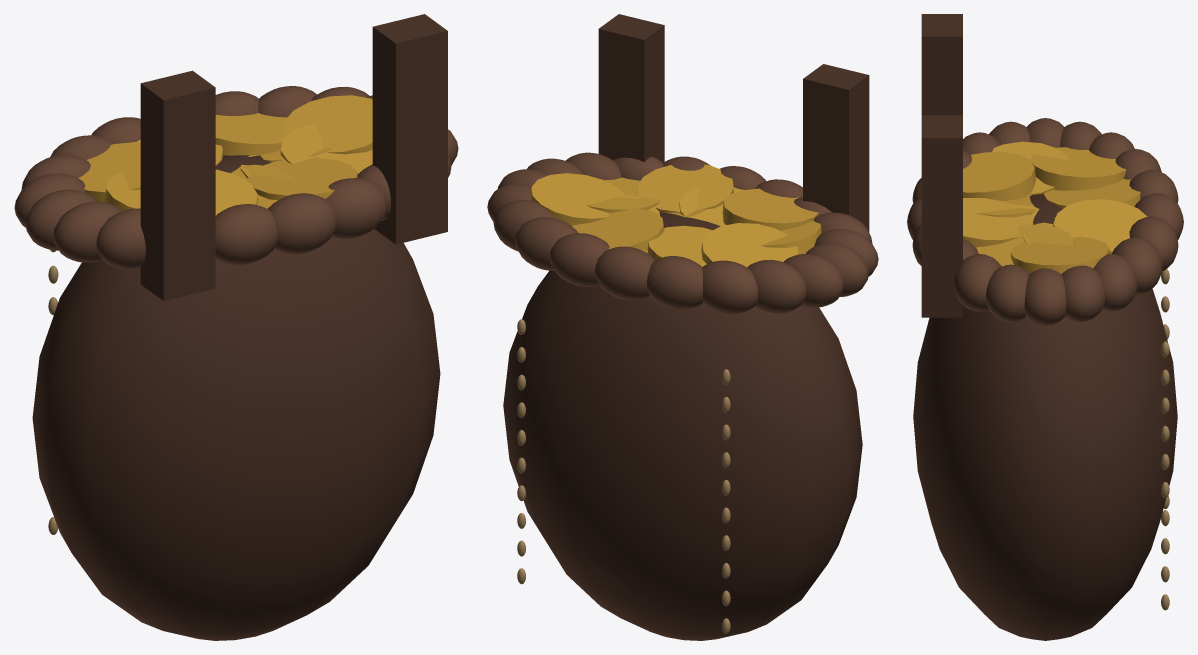
The model's file is coin-pouch-source.glb.
3 renders of one model, left to right at view 1: azimuth 30°, elevation 25°; view 2: azimuth 150°, elevation 25°; view 3: azimuth 270°, elevation 25°, orthographic. The views are drawn at different scales.
Parts seen in each view (by area): view 1: LeatherBody, BeltLoop (×2), PouchCoin14, RolledRim6, RolledRim5, PouchCoin12, RolledRim4, PouchCoin11, RolledRim9, RolledRim8, PouchCoin13, RolledRim10 (+10 smaller); view 2: LeatherBody, BeltLoop (×2), PouchCoin14, PouchCoin12, PouchCoin13, PouchCoin15, RolledRim14, RolledRim13, RolledRim15, PouchCoin11, RolledRim12, RolledRim16 (+17 smaller); view 3: LeatherBody, BeltLoop (×2), PouchCoin15, PouchCoin11, PouchCoin13, PouchCoin14, PouchCoin12, RolledRim0, RolledRim1, RolledRim19, RolledRim2, RolledRim18 (+15 smaller).
Boxes of the visible parts, x1=… form: LeatherBody: x1=32, y1=155, x2=440, y2=640; BeltLoop (×2): x1=140, y1=14, x2=447, y2=300; PouchCoin14: x1=283, y1=95, x2=372, y2=154; RolledRim6: x1=215, y1=204, x2=277, y2=265; RolledRim5: x1=268, y1=193, x2=336, y2=254; PouchCoin12: x1=247, y1=157, x2=357, y2=200; RolledRim4: x1=326, y1=178, x2=387, y2=239; PouchCoin11: x1=215, y1=113, x2=288, y2=155; RolledRim9: x1=53, y1=201, x2=122, y2=262; RolledRim8: x1=96, y1=208, x2=145, y2=269; PouchCoin13: x1=78, y1=142, x2=140, y2=202; RolledRim10: x1=25, y1=189, x2=96, y2=250; LeatherBody: x1=503, y1=212, x2=862, y2=640; BeltLoop (×2): x1=598, y1=14, x2=869, y2=232; PouchCoin14: x1=531, y1=173, x2=624, y2=225; PouchCoin12: x1=637, y1=164, x2=733, y2=212; PouchCoin13: x1=701, y1=223, x2=798, y2=267; PouchCoin15: x1=722, y1=188, x2=818, y2=230; RolledRim14: x1=647, y1=256, x2=702, y2=309; RolledRim13: x1=702, y1=260, x2=757, y2=314; RolledRim15: x1=595, y1=246, x2=654, y2=300; PouchCoin11: x1=572, y1=208, x2=664, y2=250; RolledRim12: x1=747, y1=260, x2=806, y2=313; RolledRim16: x1=549, y1=233, x2=609, y2=286; LeatherBody: x1=913, y1=193, x2=1177, y2=640; BeltLoop (×2): x1=921, y1=14, x2=962, y2=317; PouchCoin15: x1=963, y1=152, x2=1035, y2=201; PouchCoin11: x1=1053, y1=199, x2=1147, y2=253; PouchCoin13: x1=1030, y1=147, x2=1126, y2=190; PouchCoin14: x1=1010, y1=236, x2=1109, y2=273; PouchCoin12: x1=963, y1=198, x2=1033, y2=248; RolledRim0: x1=1024, y1=268, x2=1066, y2=325; RolledRim1: x1=985, y1=264, x2=1029, y2=322; RolledRim19: x1=1061, y1=265, x2=1105, y2=322; RolledRim2: x1=953, y1=254, x2=1001, y2=311; RolledRim18: x1=1093, y1=254, x2=1137, y2=311.
Size of the model in its own units: 1.04 by 1.47 by 0.67.
